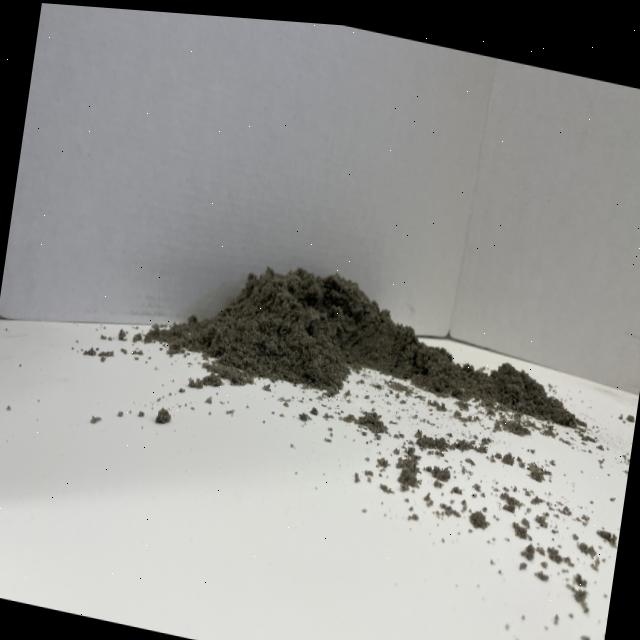sand: (162, 226, 458, 426)
